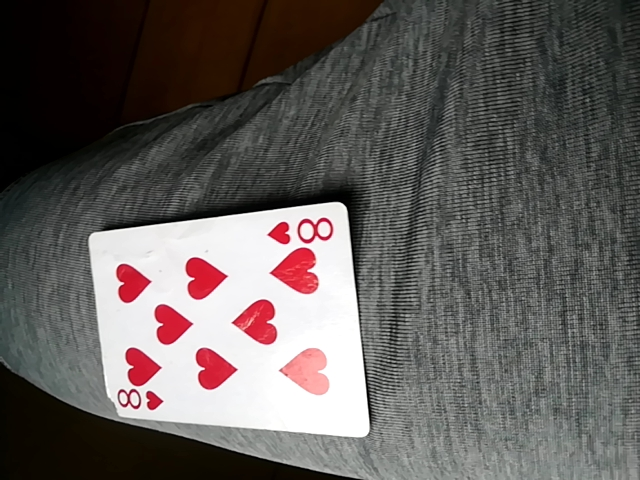hx 8: (89, 204, 367, 438)
